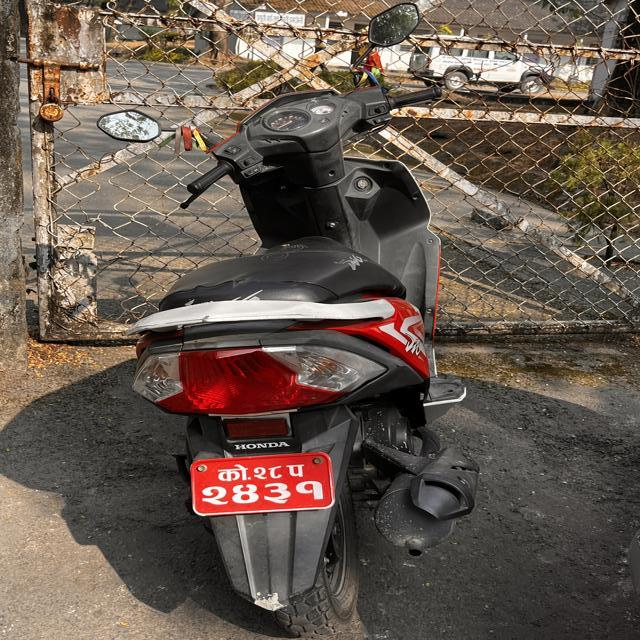license_plate: (152, 438, 346, 526)
